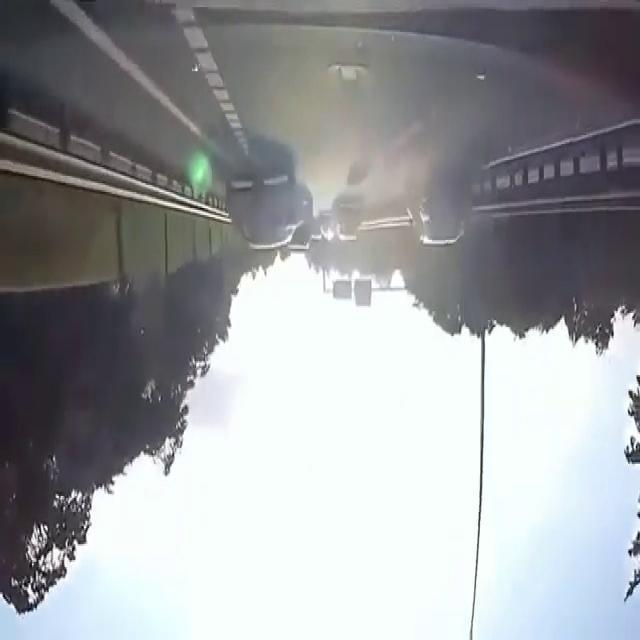vehicle: (195, 162, 335, 254), (398, 188, 492, 282)
